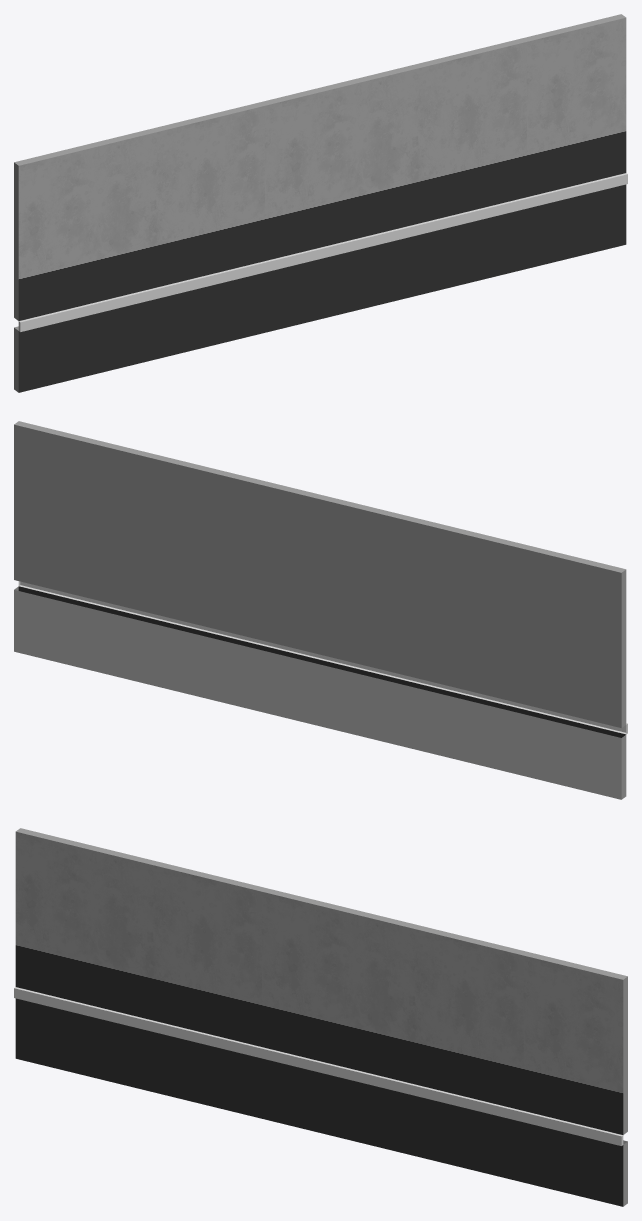
File: Walls.fbx
3 renders of one model, top to bottom at view 1: azimuth 30°, elevation 25°; view 2: azimuth 150°, elevation 25°; view 3: azimuth 330°, elevation 25°, orthographic.
Visible parts, largest first — view 1: pCube35; view 2: pCube35; view 3: pCube35.
Boxes of the visible parts, left/top/right/bottom form: pCube35: left=14, top=14, right=627, bottom=392; pCube35: left=14, top=421, right=627, bottom=799; pCube35: left=14, top=828, right=627, bottom=1206.
Size of the model in its own units: 907 by 324 by 16.69.
